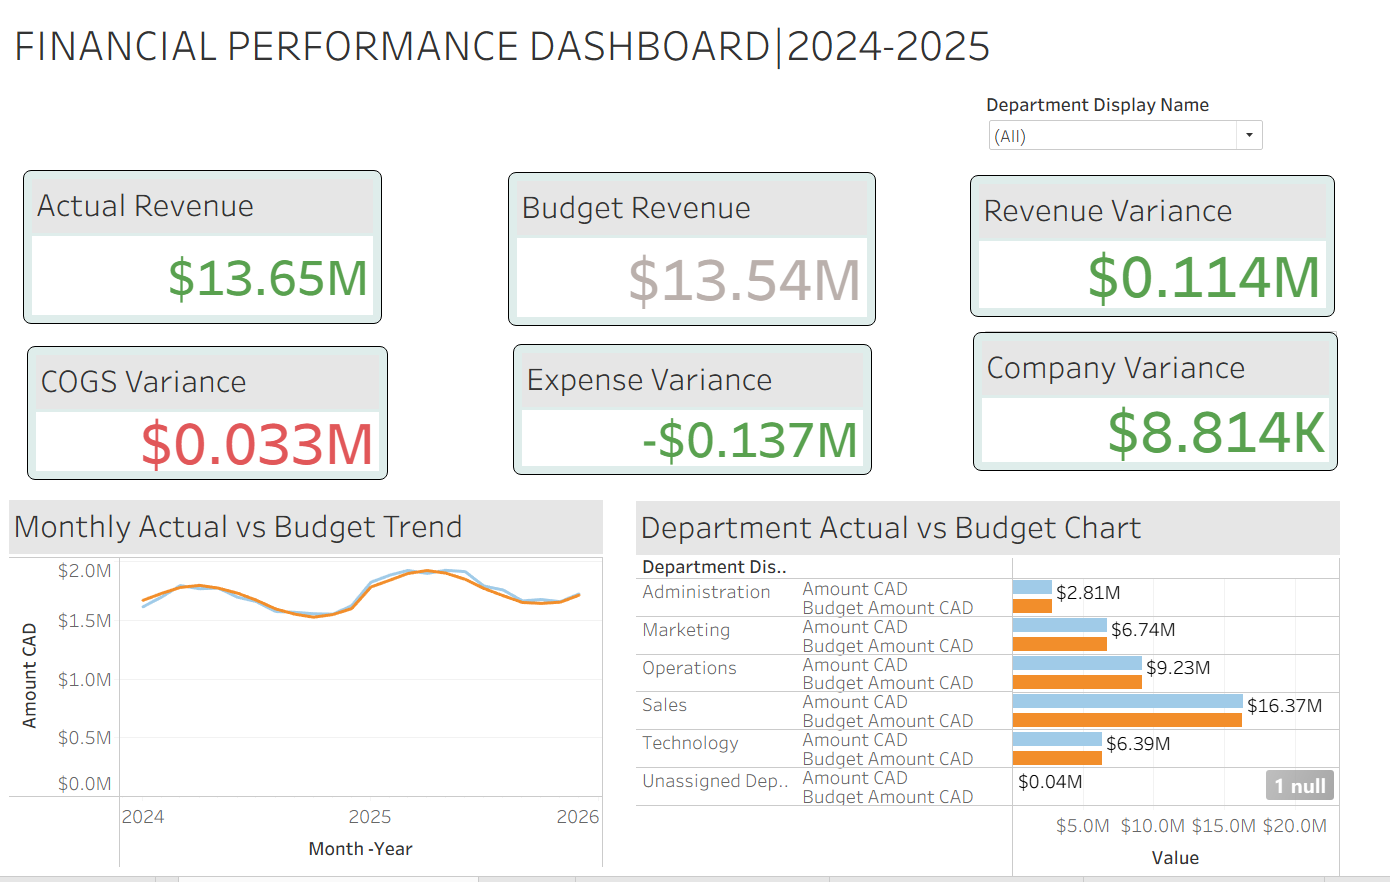

The dashboard page shown, as its layout file describes it:
{"tool":"tableau","page":{"name":"FINANCIAL PERFORMANCE DASHBOARD|2024-2025","canvas":[1400,900],"ordinal":0},"visuals":[{"type":"title","box":[8,8,1384,79]},{"type":"filter","title":"Department Actual vs Budget Chart","param":"[federated.0xnzz0p1ky48a018m45p31oo4qw8].[none:Calculation_0669931593068554:nk]","box":[989,94,280,65]},{"type":"worksheet","title":"KPI-Actual Revenue","mark":"Automatic","box":[18,165,375,170]},{"type":"worksheet","title":"KPI-Budget Revenue","mark":"Automatic","box":[503,167,384,170]},{"type":"worksheet","title":"KPI-Revenue Variance","mark":"Automatic","box":[965,170,366,158]},{"type":"worksheet","title":"Company Performance Variance","mark":"Automatic","box":[968,327,381,155]},{"type":"worksheet","title":"KPI-Operating Expense Variance","mark":"Automatic","box":[508,339,375,147]},{"type":"worksheet","title":"KPI-COGS Variance ","mark":"Automatic","box":[22,341,377,150]},{"type":"worksheet","title":"Monthly Actual vs Budget Trend","mark":"Automatic","rows":["Amount_CAD","Budget_Amount_CAD"],"cols":["Month Start"],"box":[12,503,594,368]},{"type":"worksheet","title":"Department Actual vs Budget Chart","mark":"Automatic","rows":["Calculation_0669931593068554"],"box":[639,504,704,376]}]}

Visuals, with their boxes in screenshot pixels (x1, y1, x2, y2), scaled from the page's 1400x900 canvas onto the 1390x882 screenshot:
title: left=8, top=8, right=1382, bottom=85
"Department Actual vs Budget Chart" filter: left=982, top=92, right=1260, bottom=156
"KPI-Actual Revenue" worksheet: left=18, top=162, right=390, bottom=328
"KPI-Budget Revenue" worksheet: left=499, top=164, right=881, bottom=330
"KPI-Revenue Variance" worksheet: left=958, top=167, right=1321, bottom=321
"Company Performance Variance" worksheet: left=961, top=320, right=1339, bottom=472
"KPI-Operating Expense Variance" worksheet: left=504, top=332, right=877, bottom=476
"KPI-COGS Variance " worksheet: left=22, top=334, right=396, bottom=481
"Monthly Actual vs Budget Trend" worksheet: left=12, top=493, right=602, bottom=854
"Department Actual vs Budget Chart" worksheet: left=634, top=494, right=1333, bottom=862
